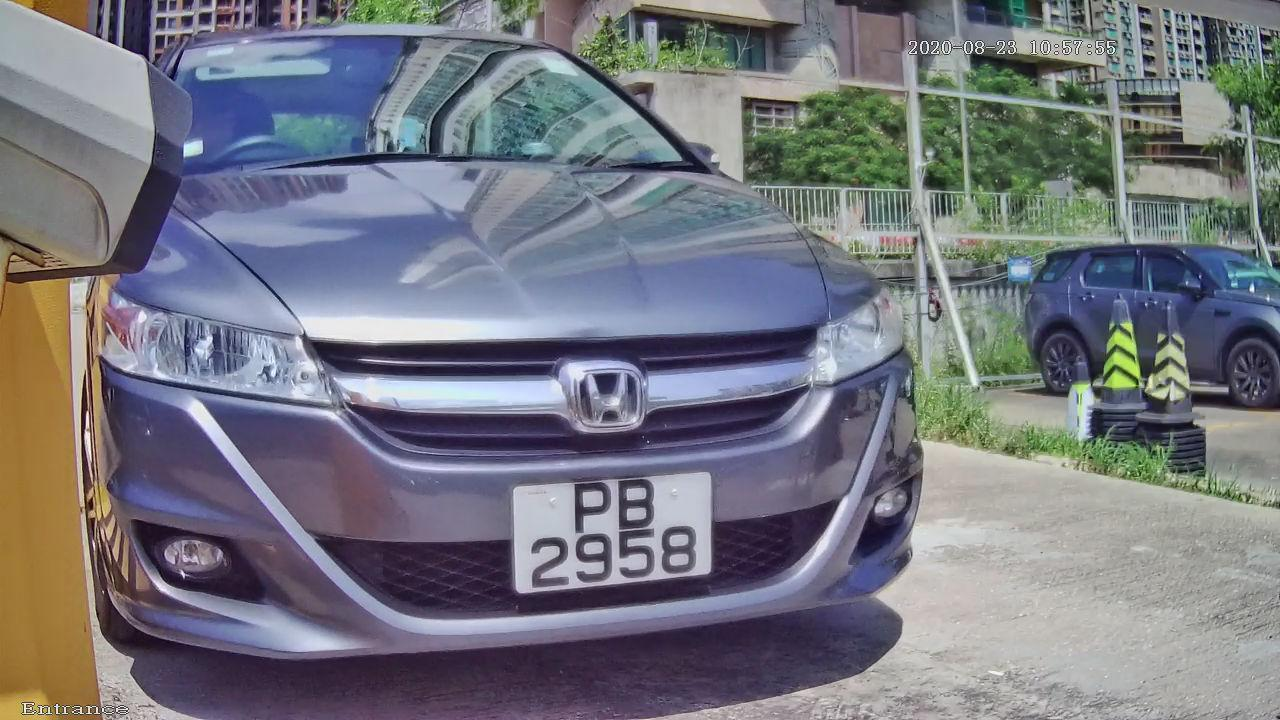Car: (1, 1, 1012, 717)
License Plate: (492, 463, 721, 602)
